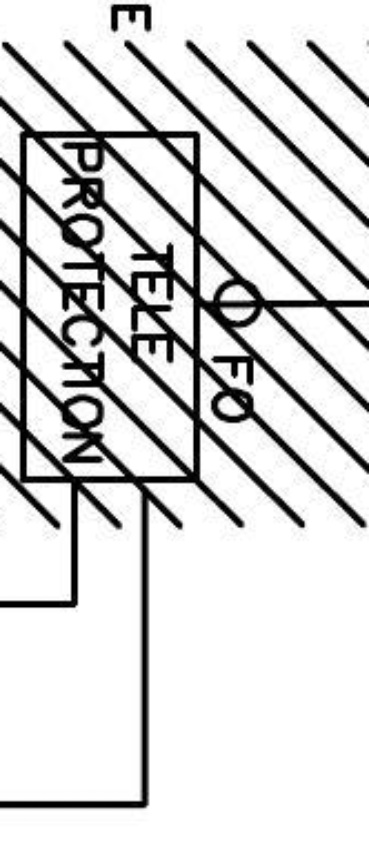tele_protection: (13, 125, 206, 489)
